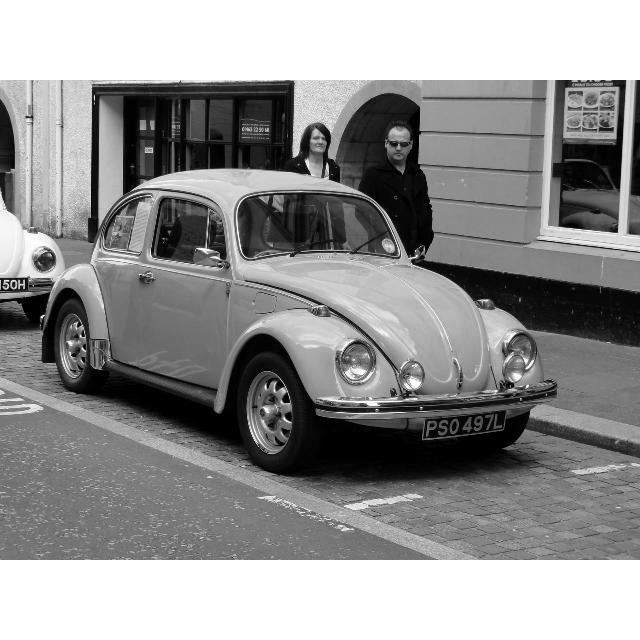fender-dent: (225, 285, 319, 350)
